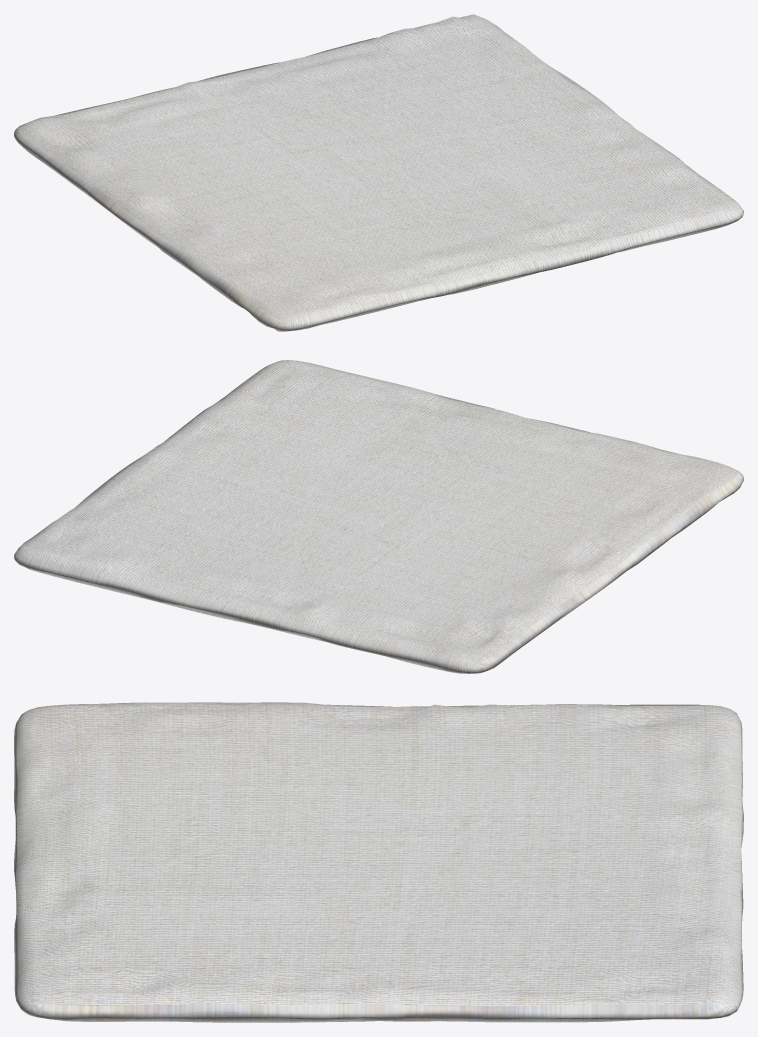
File: _rpica.fbx
The picture shows the model from 3 angles, top to bottom: view 1: azimuth 30°, elevation 25°; view 2: azimuth 150°, elevation 25°; view 3: azimuth 270°, elevation 25°; orthographic projection. The views are drawn at different scales.
Parts seen in each view (by area): view 1: krpica; view 2: krpica; view 3: krpica.
Part boxes in pixels (x1,y1,x2,y2): krpica: [14, 14, 743, 331]; krpica: [14, 360, 743, 673]; krpica: [14, 702, 743, 1022].
Bounding box in the file's own units: 260 × 13.64 × 260.
